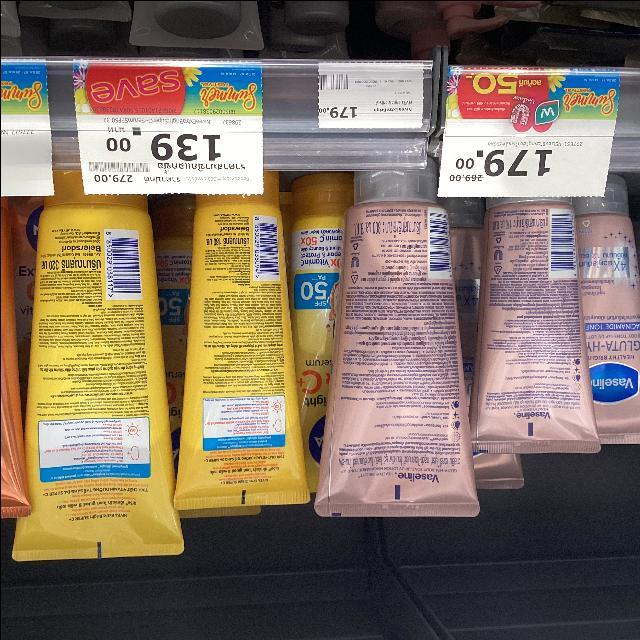Squeeze Tube: (23, 152, 640, 572), (10, 167, 188, 564), (311, 163, 484, 517), (176, 169, 314, 513), (473, 180, 600, 448)
